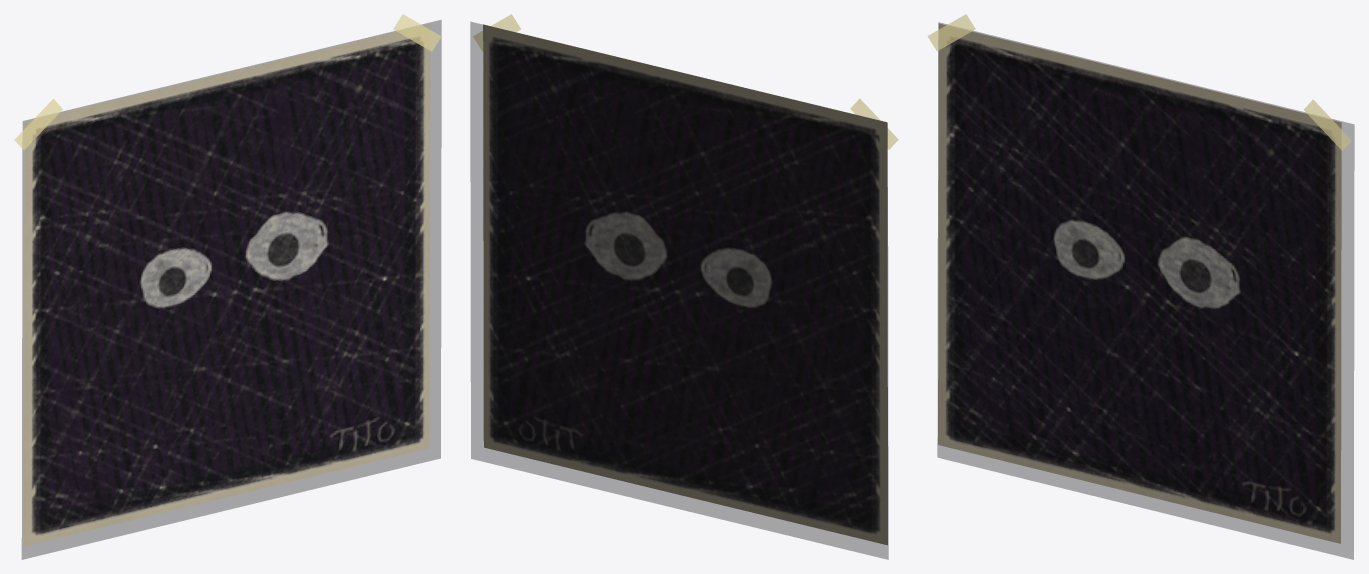
Rendered from desenho_6.glb.
3 renders of one model, left to right at view 1: azimuth 30°, elevation 25°; view 2: azimuth 150°, elevation 25°; view 3: azimuth 330°, elevation 25°, orthographic.
Visible parts, largest first — view 1: _MeshInstance3D_3597_2, _MeshInstance3D_3596_3, _MeshInstance3D_3599_0, _MeshInstance3D_3598_1; view 2: _MeshInstance3D_3596_3, _MeshInstance3D_3597_2; view 3: _MeshInstance3D_3597_2, _MeshInstance3D_3596_3, _MeshInstance3D_3599_0, _MeshInstance3D_3598_1.
Boxes of the visible parts, <box> form: _MeshInstance3D_3597_2: <box>24,23,430,546</box>; _MeshInstance3D_3596_3: <box>22,20,441,559</box>; _MeshInstance3D_3599_0: <box>393,14,441,51</box>; _MeshInstance3D_3598_1: <box>14,99,62,150</box>; _MeshInstance3D_3596_3: <box>470,22,888,559</box>; _MeshInstance3D_3597_2: <box>483,24,887,545</box>; _MeshInstance3D_3597_2: <box>938,23,1341,543</box>; _MeshInstance3D_3596_3: <box>937,22,1354,559</box>; _MeshInstance3D_3599_0: <box>1304,99,1351,150</box>; _MeshInstance3D_3598_1: <box>927,14,975,51</box>.
Bounding box in the file's own units: 0.9512 × 0.9662 × 0.005.
Materials: 3 (1 with a texture image).
